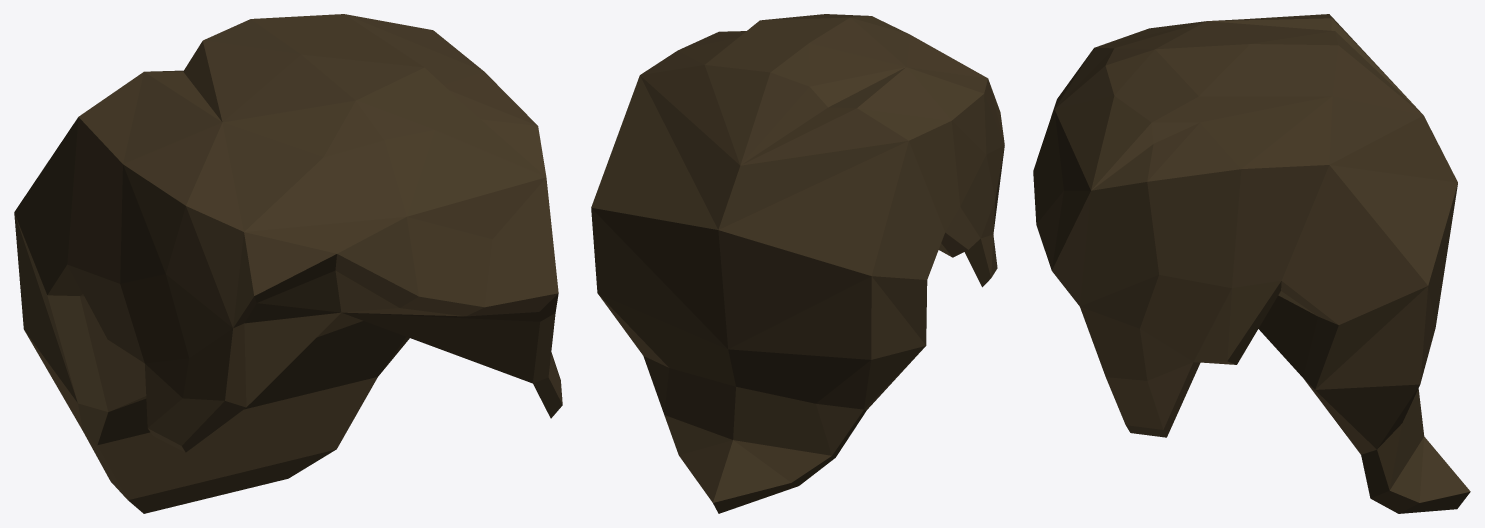
The model's file is Chr_Hair_36_Static.fbx.
3 views of the same model, side by side, from view 1: azimuth 30°, elevation 25°; view 2: azimuth 150°, elevation 25°; view 3: azimuth 270°, elevation 25° (orthographic). The views are drawn at different scales.
Parts seen in each view (by area): view 1: Chr_Hair_36_Static; view 2: Chr_Hair_36_Static; view 3: Chr_Hair_36_Static.
Part boxes in pixels (<box>): Chr_Hair_36_Static: <box>14,14,562,513</box>; Chr_Hair_36_Static: <box>591,14,1004,513</box>; Chr_Hair_36_Static: <box>1033,14,1470,513</box>.
Size of the model in its own units: 0.2621 by 0.3178 by 0.2709.
